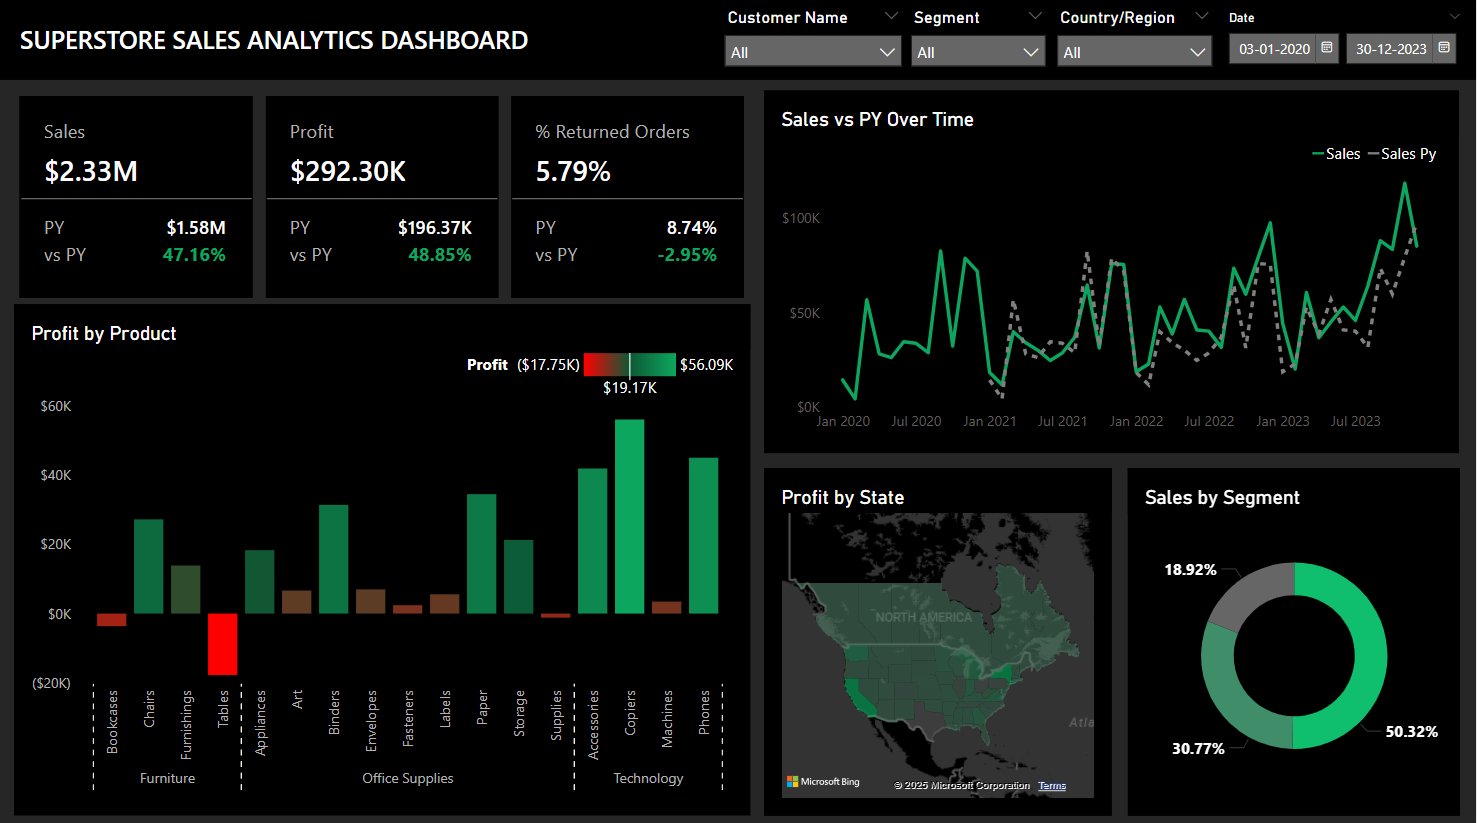

This screenshot's page, from the dashboard's own definition file:
{"tool":"powerbi","page":{"name":"Page 1","canvas":[1280,720],"ordinal":0},"visuals":[{"type":"cardVisual","fields":{"Data":["Key Measures.Sales","Key Measures.Profit","Key Measures.% Returned Orders"]},"box":[13.1,79.8,638.5,185.8],"z":0},{"type":"shape","box":[0,0,1280.4,70.8],"z":1000},{"type":"slicer","fields":{"Values":["Orders.Customer Name"]},"box":[618.3,3.6,173.9,71.5],"z":2000},{"type":"slicer","fields":{"Values":["Orders.Country/Region"]},"box":[906.6,3.6,154.9,73.9],"z":3000},{"type":"lineChart","title":"Sales vs PY Over Time","fields":{"Y":["Key Measures.Sales","Key Measures.Sales Py"],"Category":["Date Table.Start of Month"]},"box":[663.5,79.8,602.8,314.5],"z":4000},{"type":"slicer","fields":{"Values":["Orders.Segment"]},"box":[780.3,3.6,137,73.9],"z":5000},{"type":"columnChart","title":"Profit by Product","fields":{"Category":["Orders.Category","Orders.Sub-Category"],"Y":["Key Measures.Profit"]},"box":[13.1,265.7,638.5,443.2],"z":6000},{"type":"filledMap","title":"Profit by State","fields":{"Category":["Orders.State/Province"]},"box":[663.5,407.4,301.4,301.4],"z":7000},{"type":"slicer","fields":{"Values":["Date Table.Date"]},"box":[1053.1,6,226.3,73.9],"z":8000},{"type":"donutChart","title":"Sales by Segment","fields":{"Y":["Key Measures.Sales"],"Category":["Orders.Segment"]},"box":[978,407.4,288.3,301.4],"z":9000}]}

Visuals, with their boxes in screenshot pixels (x1, y1, x2, y2), scaled from the page's 1280x720 canvas onto the 1477x823 screenshot:
cardVisual - Key Measures.Sales x Key Measures.Profit: select_region(15, 91, 752, 304)
shape: select_region(0, 0, 1476, 81)
slicer - Orders.Customer Name: select_region(713, 4, 914, 86)
slicer - Orders.Country/Region: select_region(1046, 4, 1225, 89)
"Sales vs PY Over Time" lineChart: select_region(766, 91, 1461, 451)
slicer - Orders.Segment: select_region(900, 4, 1058, 89)
"Profit by Product" columnChart: select_region(15, 304, 752, 810)
"Profit by State" filledMap: select_region(766, 466, 1113, 810)
slicer - Date Table.Date: select_region(1215, 7, 1476, 91)
"Sales by Segment" donutChart: select_region(1129, 466, 1461, 810)
